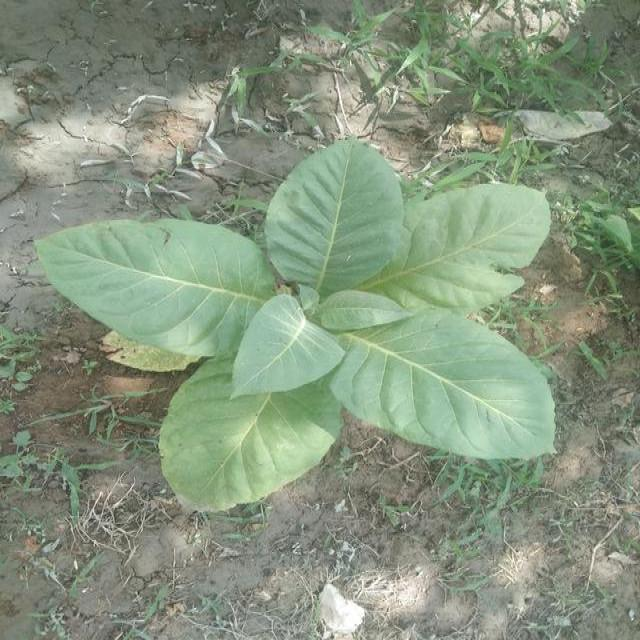crop: (45, 129, 551, 516)
